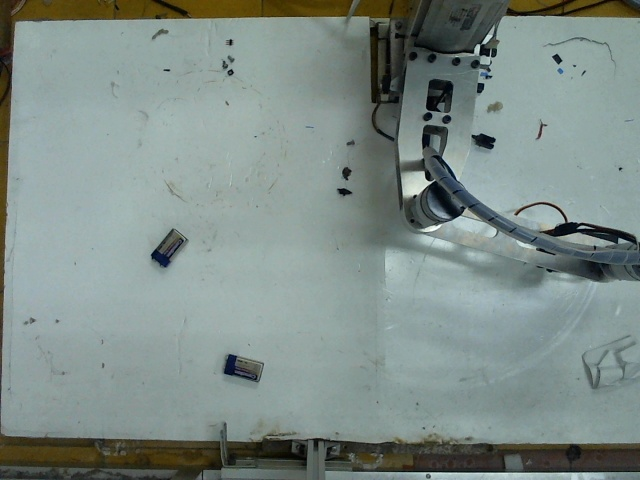battery: (150, 222, 184, 264), (224, 349, 263, 380)
